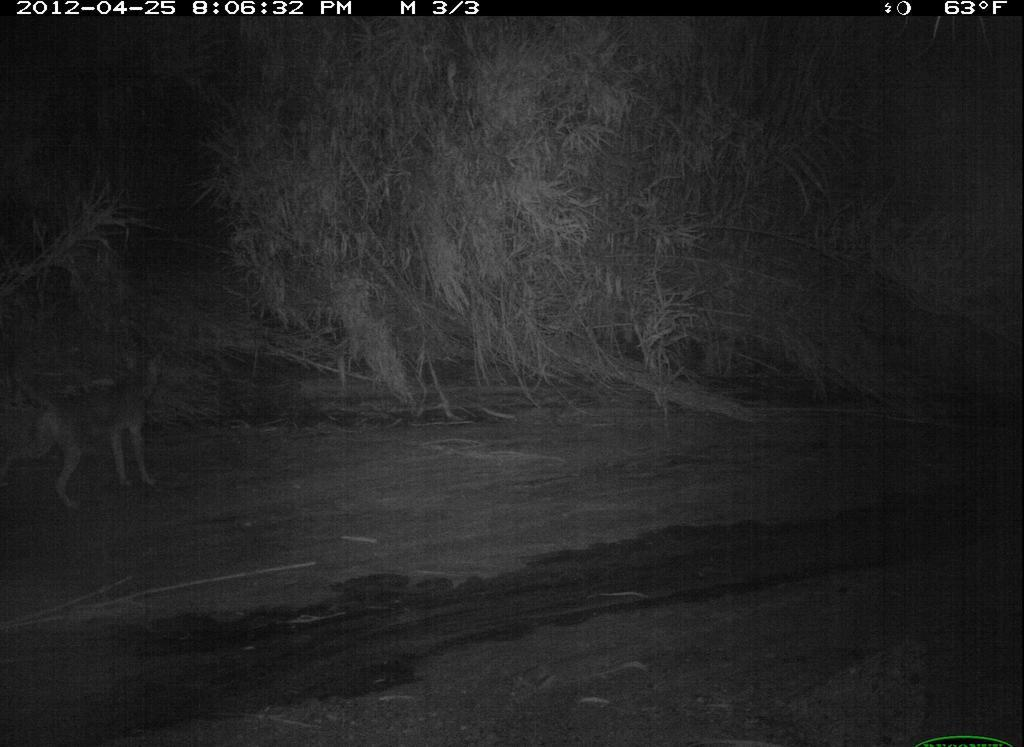coyote: (22, 349, 175, 520)
